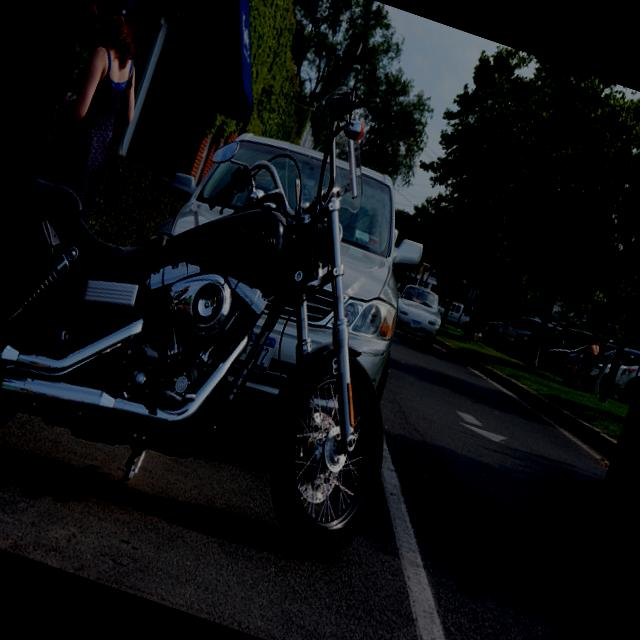Vehicle: (0, 0, 514, 589), (145, 114, 447, 385), (504, 308, 614, 387), (536, 322, 619, 389), (478, 304, 554, 365), (384, 279, 450, 346), (586, 334, 640, 390), (607, 344, 640, 405), (432, 297, 473, 331)
